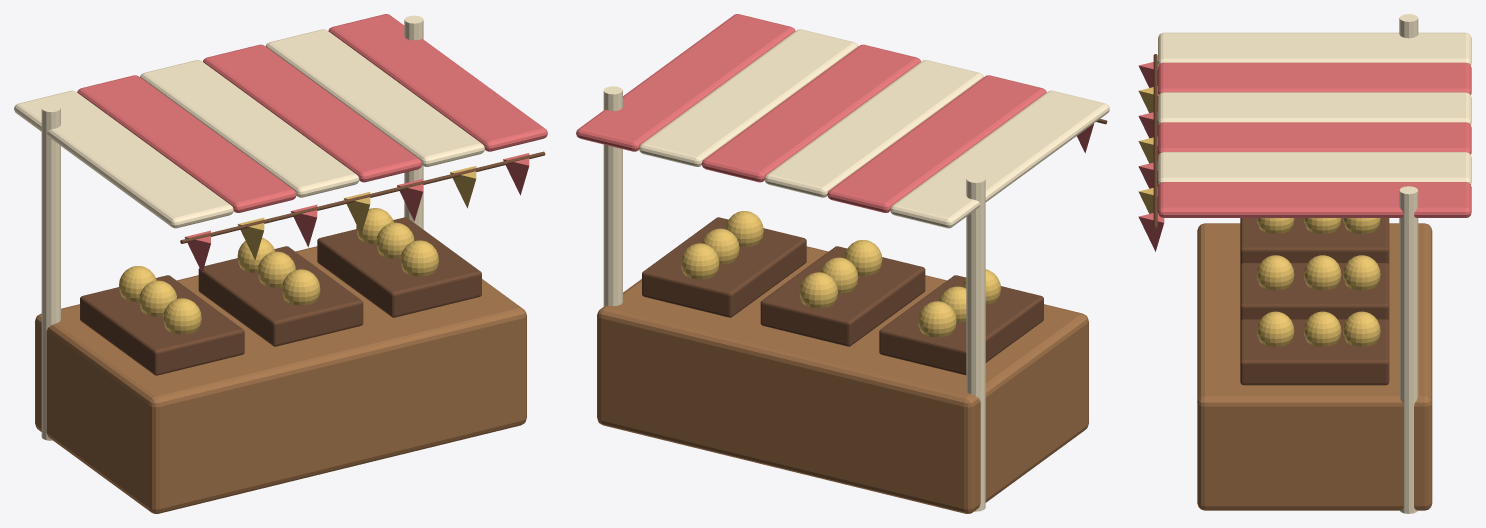
Rendered from race_stall.glb.
3 views of the same model, side by side, from view 1: azimuth 30°, elevation 25°; view 2: azimuth 150°, elevation 25°; view 3: azimuth 270°, elevation 25° (orthographic). The views are drawn at different scales.
Parts seen in each view (by area): view 1: race_stall; view 2: race_stall; view 3: race_stall.
Boxes of the visible parts, bbox=[...] form: race_stall: bbox=[14, 14, 547, 513]; race_stall: bbox=[576, 14, 1109, 513]; race_stall: bbox=[1138, 14, 1471, 513].
Size of the model in its own units: 5.44 by 4.5 by 4.25.
